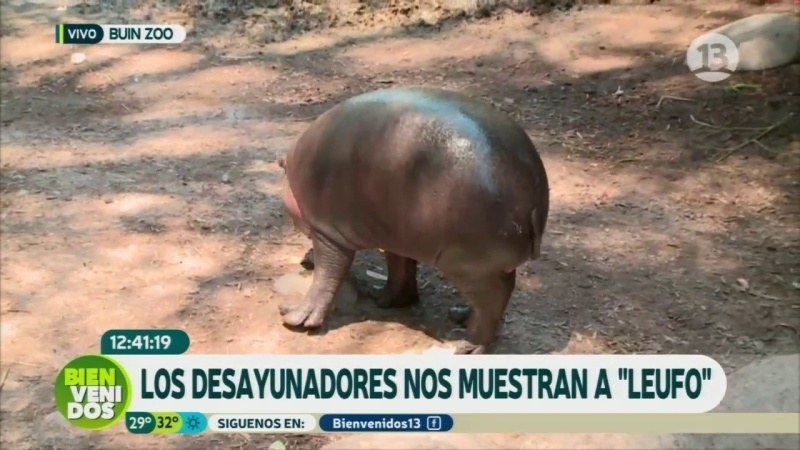hipopotamo: (254, 78, 576, 352)
